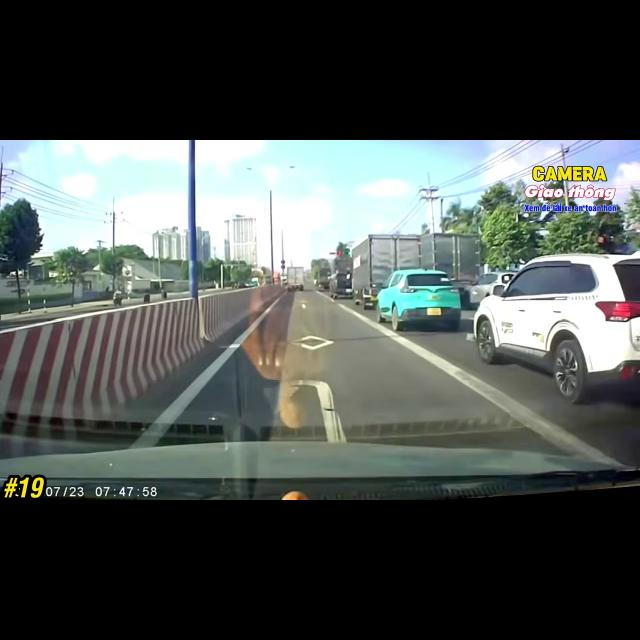car: (473, 253, 639, 403), (376, 269, 461, 331), (469, 272, 515, 308), (330, 271, 354, 299)
motorcycle: (113, 292, 122, 306)
truck: (351, 234, 421, 309), (421, 234, 481, 309), (287, 267, 305, 291), (330, 258, 352, 274), (316, 268, 330, 291)
